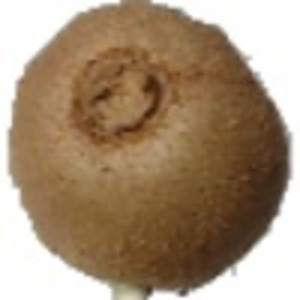kiwi: (6, 1, 292, 300)
